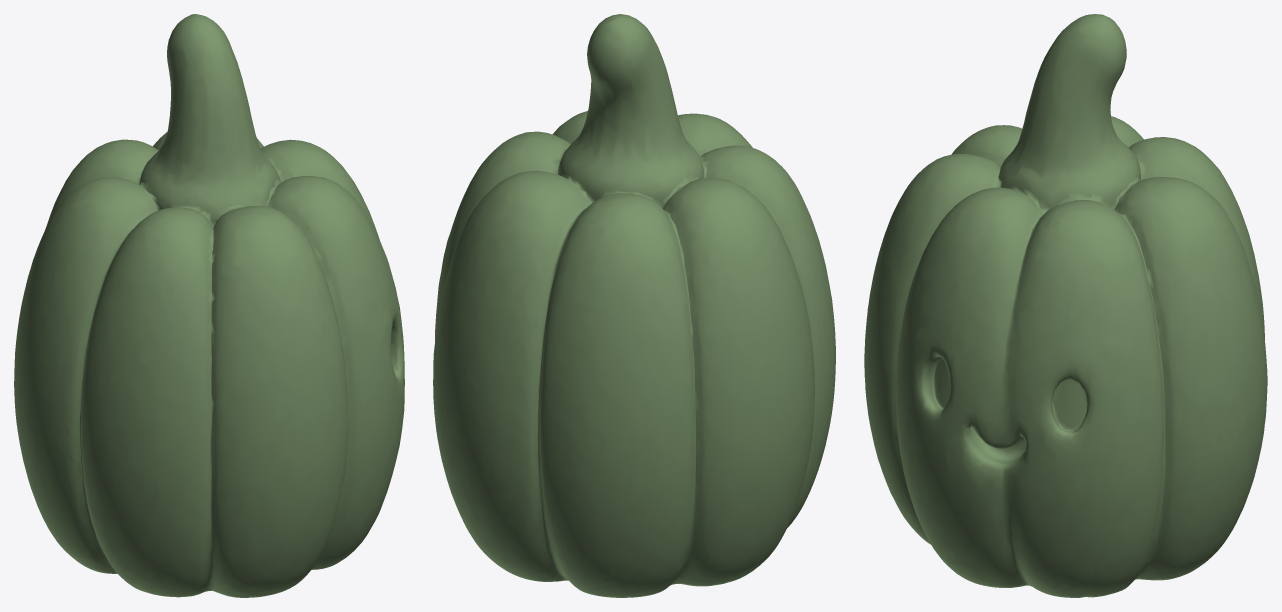
Rendered from pumpkin-pal.glb.
3 views of the same model, side by side, from view 1: azimuth 30°, elevation 25°; view 2: azimuth 150°, elevation 25°; view 3: azimuth 270°, elevation 25° (orthographic). The views are drawn at different scales.
Parts seen in each view (by area): view 1: tripo_printable_source; view 2: tripo_printable_source; view 3: tripo_printable_source.
Boxes of the visible parts, bbox=[...] form: tripo_printable_source: bbox=[14, 14, 404, 597]; tripo_printable_source: bbox=[433, 14, 835, 597]; tripo_printable_source: bbox=[864, 14, 1267, 597].
Bounding box in the file's own units: 70 × 100 × 70.
